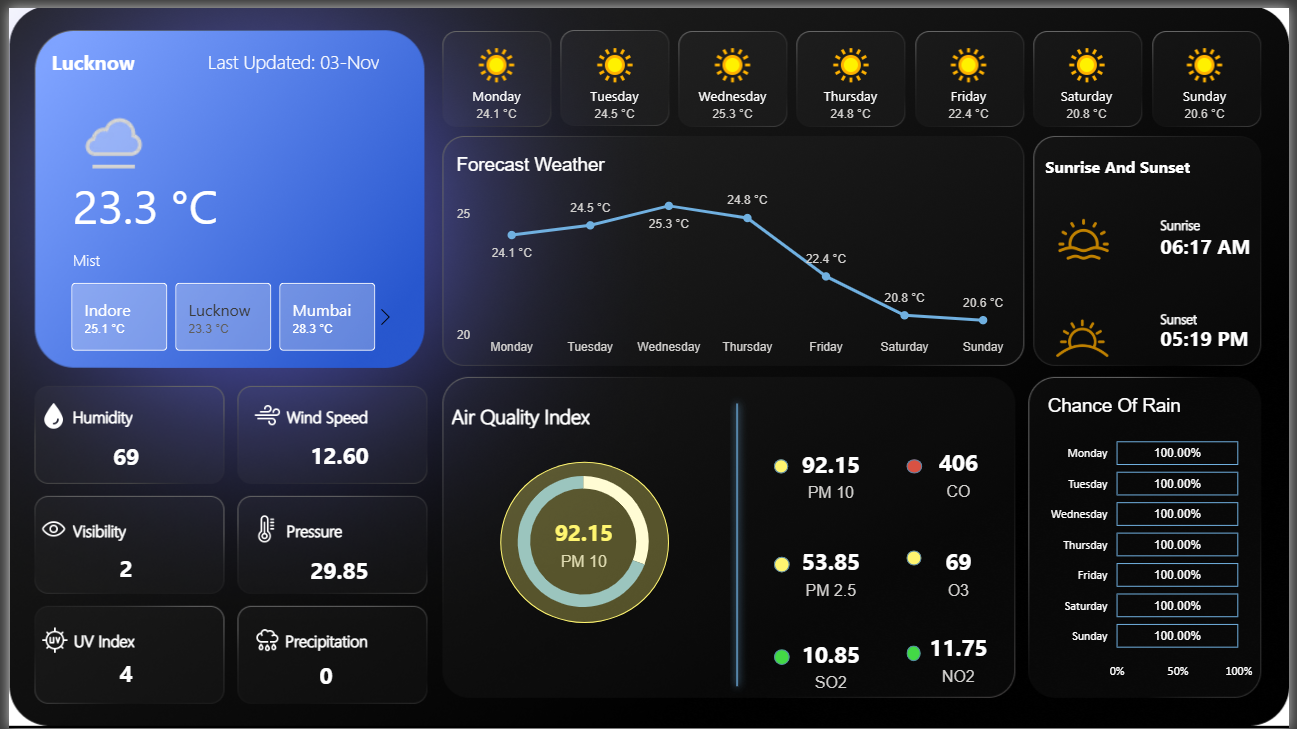

Layout of this report page (visuals, bound fields, positions):
{"tool":"powerbi","page":{"name":"Page 1","canvas":[1280,720],"ordinal":0},"visuals":[{"type":"advancedSlicerVisual","fields":{"Values":["Location.location.name"]},"box":[37.4,270.2,354.7,78.4],"z":0},{"type":"shape","box":[63.9,158,150.8,78.4],"z":1000},{"type":"shape","box":[63.9,231.6,194.2,38.6],"z":2000},{"type":"shape","box":[42.2,33.8,119.4,38.6],"z":3000},{"type":"shape","box":[199.1,33.8,193,38.6],"z":4000},{"type":"cardVisual","fields":{"Data":["Min(Current.current.condition.icon)"]},"box":[37.4,72.4,124.3,115.8],"z":5000},{"type":"shape","box":[63.9,388.5,70,38.6],"z":6000},{"type":"shape","box":[63.9,501.9,70,38.6],"z":7000},{"type":"shape","box":[65.1,612.9,70,38.6],"z":8000},{"type":"shape","box":[277.5,388.8,98.8,38.8],"z":9000},{"type":"shape","box":[277.5,501.9,70,38.6],"z":10000},{"type":"shape","box":[276.3,612.9,98.9,38.6],"z":11000},{"type":"image","box":[26.5,388.5,37.4,38.6],"z":12000},{"type":"image","box":[26.5,501.9,37.4,37.4],"z":13000},{"type":"image","box":[240.1,388.5,37.4,37.4],"z":14000},{"type":"image","box":[27.7,614.1,37.4,37.4],"z":15000},{"type":"image","box":[238.9,503.1,37.4,37.4],"z":16000},{"type":"image","box":[240.1,614.1,37.4,37.4],"z":17000},{"type":"card","fields":{"Values":["Sum(Current.current.humidity)"]},"box":[95.3,427.1,44.6,44.6],"z":18000},{"type":"card","fields":{"Values":["Sum(Current.current.vis_km)"]},"box":[95.3,540.5,44.6,44.6],"z":19000},{"type":"card","fields":{"Values":["Sum(Current.current.uv)"]},"box":[95.3,645.4,44.6,44.6],"z":20000},{"type":"card","fields":{"Values":["Sum(Current.current.wind_kph)"]},"box":[295.6,425.9,71.2,44.6],"z":21000},{"type":"card","fields":{"Values":["Sum(Current.current.pressure_in)"]},"box":[295.6,541.7,71.2,44.6],"z":22000},{"type":"card","fields":{"Values":["Sum(Current.current.precip_in)"]},"box":[295.6,646.7,44.6,44.6],"z":23000},{"type":"advancedSlicerVisual","fields":{"Values":["Forecast_Day.Day Name"]},"box":[427.1,33.8,831.2,96.5],"z":24000},{"type":"lineChart","title":"Forecast Weather","fields":{"Category":["Forecast_Day.Day Name"],"Y":["Sum(Forecast_Day.forecast.forecastday.day.avgtemp_c)"]},"box":[442.8,146,568.2,208.7],"z":25000},{"type":"shape","box":[1036.3,138.7,155.6,38.6],"z":26000},{"type":"shape","box":[1150.9,217.2,107.4,38.6],"z":27000},{"type":"shape","box":[1150.9,310.1,107.4,38.6],"z":28000},{"type":"shape","box":[1150.9,197.9,70,38.6],"z":29000},{"type":"shape","box":[1150.9,290.8,70,38.6],"z":30000},{"type":"image","box":[1033.9,284.7,79.6,90.5],"z":31000},{"type":"image","box":[1035.1,201.5,78.4,60.3],"z":32000},{"type":"hundredPercentStackedBarChart","title":"Chance Of Rain","fields":{"Category":["Forecast_Day.Day Name"],"Y":["Sum(Forecast_Day.forecast.forecastday.day.daily_chance_of_rain)","_Measures.Left_value_rain"]},"box":[1033.9,387.3,214.7,293.2],"z":33000},{"type":"card","fields":{"Values":["Sum(Current.current.air_quality.co)"]},"box":[912.9,428.7,74.1,72.6],"z":33001},{"type":"card","fields":{"Values":["Sum(Current.current.air_quality.o3)"]},"box":[912.9,526.9,74.1,72.6],"z":33002},{"type":"card","fields":{"Values":["Sum(Current.current.air_quality.no2)"]},"box":[912.9,613.8,74.1,72.6],"z":33003},{"type":"card","fields":{"Values":["Sum(Current.current.air_quality.pm10)"]},"box":[780.4,430.1,84,72.6],"z":33004},{"type":"card","fields":{"Values":["Sum(Current.current.air_quality.pm2_5)"]},"box":[780.4,526.9,84,72.6],"z":33005},{"type":"card","fields":{"Values":["Sum(Current.current.air_quality.so2)"]},"box":[780.4,619.5,84,72.6],"z":33006},{"type":"shape","box":[764.8,451.4,14.2,14.2],"z":33007},{"type":"shape","box":[897.2,451.4,15.7,14.2],"z":33008},{"type":"shape","box":[897,542.6,15,15],"z":33009},{"type":"shape","box":[897.2,638,14.2,15.7],"z":33010},{"type":"shape","box":[764.8,548.3,15.7,15.7],"z":33011},{"type":"shape","box":[764.8,640.9,15.7,15.7],"z":33012},{"type":"shape","box":[716.2,387.5,23.8,298.8],"z":33013},{"type":"card","fields":{"Values":["Sum(Current.current.air_quality.pm10)"]},"box":[538.8,505,72.5,60],"z":33014},{"type":"donutChart","fields":{"Y":["Sum(Current.current.air_quality.pm10)","_Measures.Left value PM10"]},"box":[487.5,438.8,173.8,190],"z":33015},{"type":"shape","box":[491.2,453.8,168.8,161.2],"z":33016},{"type":"shape","box":[442.5,387.5,177.5,38.8],"z":33017}]}

Visuals, with their boxes in screenshot pixels (x1, y1, x2, y2), scaled from the page's 1280x720 canvas onto the 1297x729 screenshot:
advancedSlicerVisual - Location.location.name: x1=38 y1=274 x2=397 y2=353
shape: x1=65 y1=160 x2=218 y2=239
shape: x1=65 y1=234 x2=262 y2=274
shape: x1=43 y1=34 x2=164 y2=73
shape: x1=202 y1=34 x2=397 y2=73
cardVisual - Min(Current.current.condition.icon): x1=38 y1=73 x2=164 y2=191
shape: x1=65 y1=393 x2=136 y2=432
shape: x1=65 y1=508 x2=136 y2=547
shape: x1=66 y1=621 x2=137 y2=660
shape: x1=281 y1=394 x2=381 y2=433
shape: x1=281 y1=508 x2=352 y2=547
shape: x1=280 y1=621 x2=380 y2=660
image: x1=27 y1=393 x2=65 y2=432
image: x1=27 y1=508 x2=65 y2=546
image: x1=243 y1=393 x2=281 y2=431
image: x1=28 y1=622 x2=66 y2=660
image: x1=242 y1=509 x2=280 y2=547
image: x1=243 y1=622 x2=281 y2=660
card - Sum(Current.current.humidity): x1=97 y1=432 x2=142 y2=478
card - Sum(Current.current.vis_km): x1=97 y1=547 x2=142 y2=592
card - Sum(Current.current.uv): x1=97 y1=653 x2=142 y2=699
card - Sum(Current.current.wind_kph): x1=300 y1=431 x2=372 y2=476
card - Sum(Current.current.pressure_in): x1=300 y1=548 x2=372 y2=594
card - Sum(Current.current.precip_in): x1=300 y1=655 x2=345 y2=700
advancedSlicerVisual - Forecast_Day.Day Name: x1=433 y1=34 x2=1275 y2=132
"Forecast Weather" lineChart: x1=449 y1=148 x2=1024 y2=359
shape: x1=1050 y1=140 x2=1208 y2=180
shape: x1=1166 y1=220 x2=1275 y2=259
shape: x1=1166 y1=314 x2=1275 y2=353
shape: x1=1166 y1=200 x2=1237 y2=239
shape: x1=1166 y1=294 x2=1237 y2=334
image: x1=1048 y1=288 x2=1128 y2=380
image: x1=1049 y1=204 x2=1128 y2=265
"Chance Of Rain" hundredPercentStackedBarChart: x1=1048 y1=392 x2=1265 y2=689
card - Sum(Current.current.air_quality.co): x1=925 y1=434 x2=1000 y2=508
card - Sum(Current.current.air_quality.o3): x1=925 y1=533 x2=1000 y2=607
card - Sum(Current.current.air_quality.no2): x1=925 y1=621 x2=1000 y2=695
card - Sum(Current.current.air_quality.pm10): x1=791 y1=435 x2=876 y2=509
card - Sum(Current.current.air_quality.pm2_5): x1=791 y1=533 x2=876 y2=607
card - Sum(Current.current.air_quality.so2): x1=791 y1=627 x2=876 y2=701
shape: x1=775 y1=457 x2=789 y2=471
shape: x1=909 y1=457 x2=925 y2=471
shape: x1=909 y1=549 x2=924 y2=565
shape: x1=909 y1=646 x2=924 y2=662
shape: x1=775 y1=555 x2=791 y2=571
shape: x1=775 y1=649 x2=791 y2=665
shape: x1=726 y1=392 x2=750 y2=695
card - Sum(Current.current.air_quality.pm10): x1=546 y1=511 x2=619 y2=572
donutChart - Sum(Current.current.air_quality.pm10) x _Measures.Left value PM10: x1=494 y1=444 x2=670 y2=637
shape: x1=498 y1=459 x2=669 y2=623
shape: x1=448 y1=392 x2=628 y2=432
